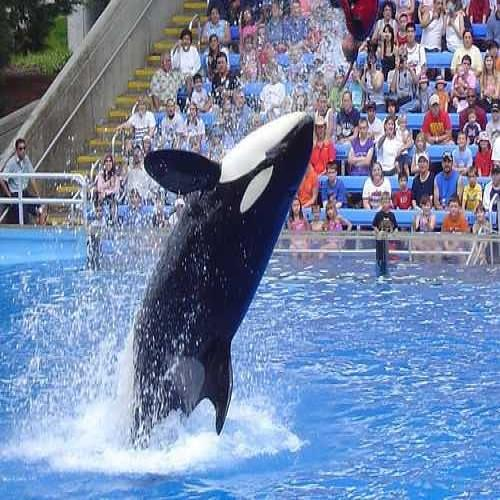killer_whale-endangered: (110, 75, 323, 451)
